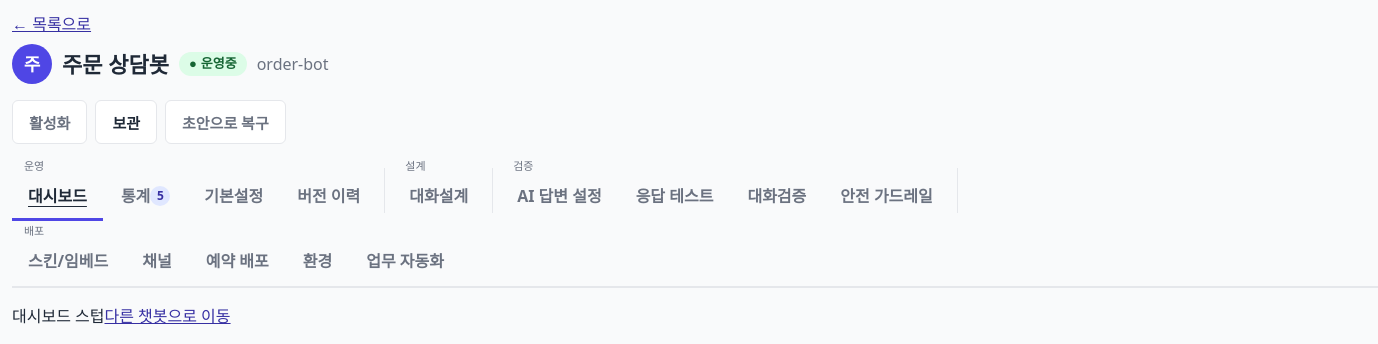
Test: ChatbotDetailLayout — 학습현황 요약 단일화(No.44 R2) › (e) chatbotId가 바뀌면 새 응답이 오기 전까지 이전 챗봇의 배지 값이 남지 않는다
Check: the text named "대기 중인 미응답 질문 5건" is shown, box [150,186,170,206]
Click the link "다른 챗봇으로 이동" at (168, 316), box [104,305,231,327]
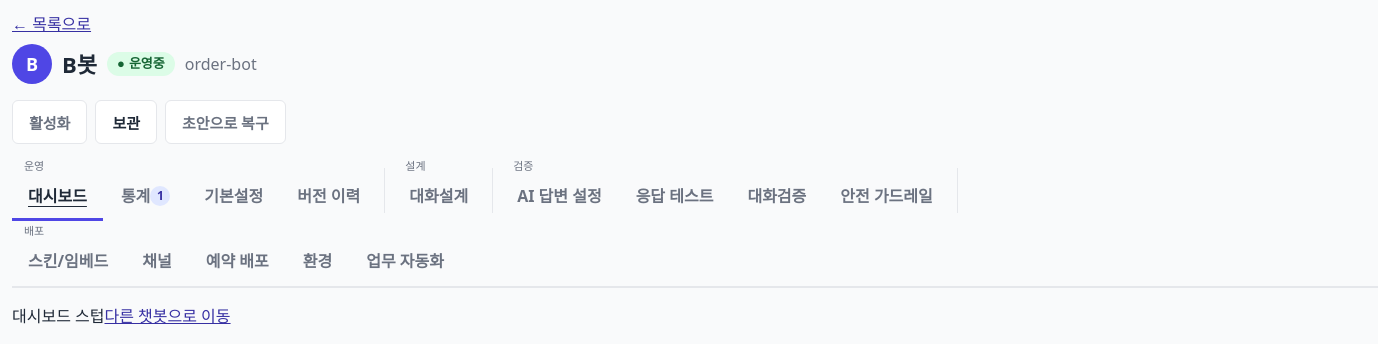
Check: the text named "대기 중인 미응답 질문 1건" is shown, box [150,186,170,206]
